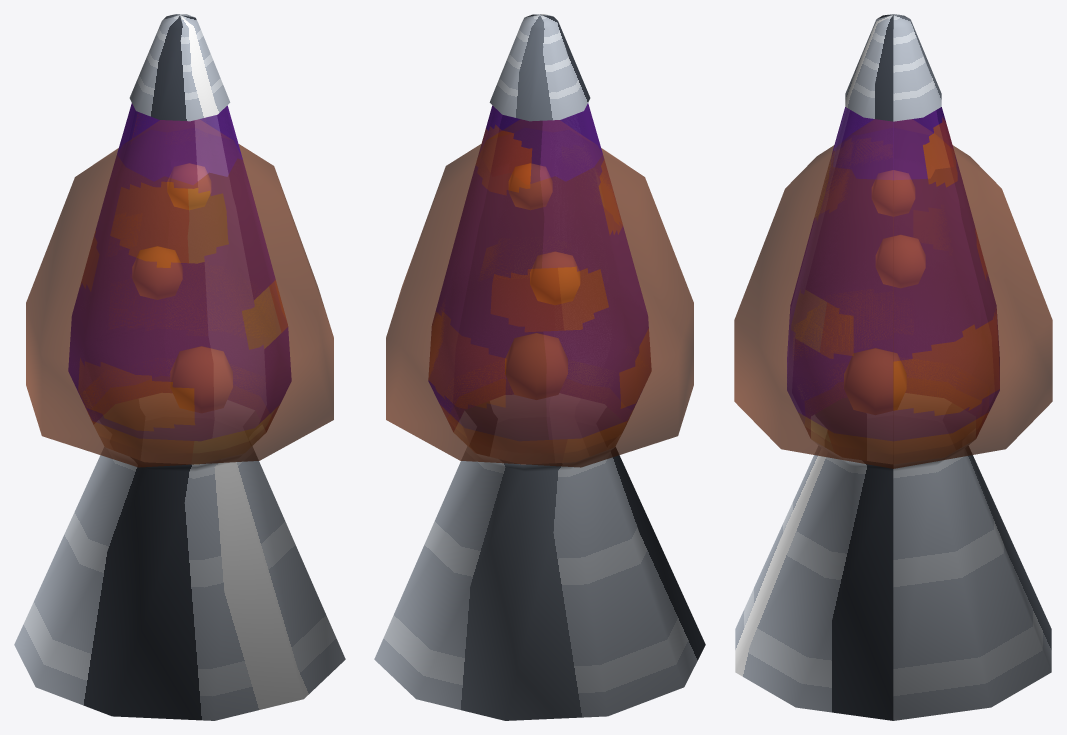
Rendered from fun-lavaLamp.glb.
3 views of the same model, side by side, from view 1: azimuth 30°, elevation 25°; view 2: azimuth 150°, elevation 25°; view 3: azimuth 270°, elevation 25° (orthographic).
Parts seen in each view (by area): view 1: fun.lavaLamp; view 2: fun.lavaLamp; view 3: fun.lavaLamp.
Boxes of the visible parts, x1=… form: fun.lavaLamp: x1=14, y1=14, x2=345, y2=720; fun.lavaLamp: x1=374, y1=14, x2=705, y2=720; fun.lavaLamp: x1=734, y1=14, x2=1052, y2=720.
Bounding box in the file's own units: 0.857 × 1.81 × 0.8197.
Materials: 5 (2 with a texture image).
